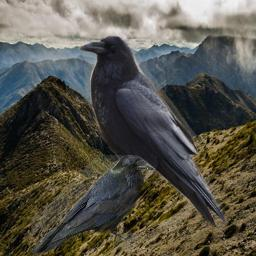Crow: (78, 33, 229, 231), (31, 155, 156, 256)
